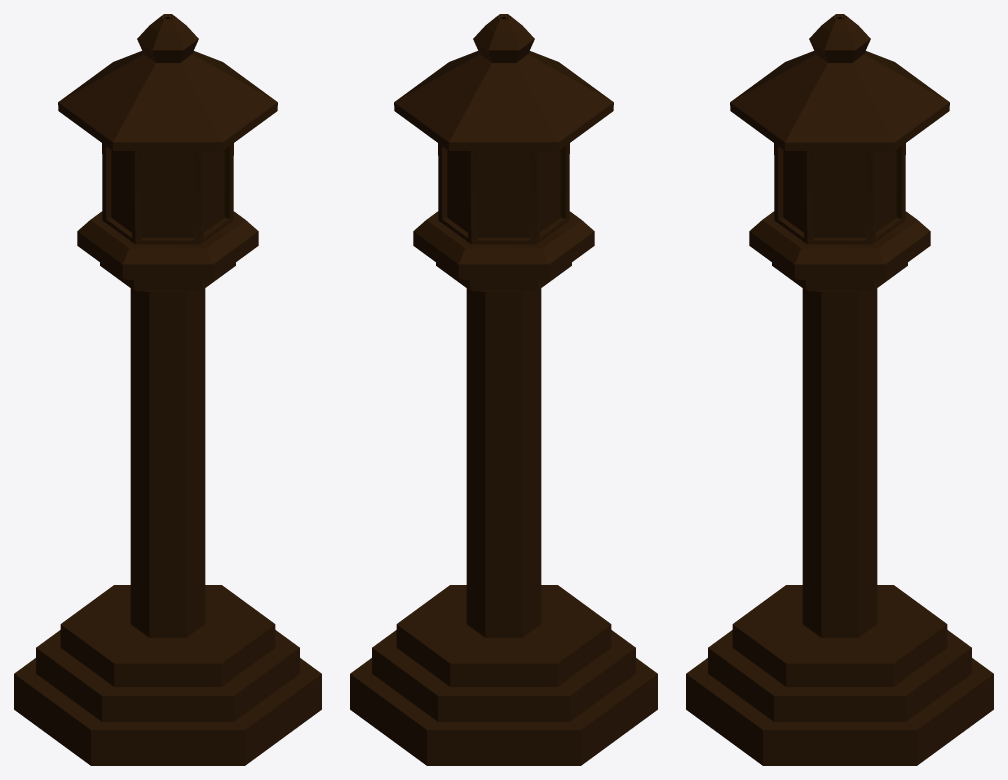
File: LampPost_(Outlined)_v002.fbx
3 renders of one model, left to right at view 1: azimuth 30°, elevation 25°; view 2: azimuth 150°, elevation 25°; view 3: azimuth 270°, elevation 25°, orthographic.
Visible parts, largest first — view 1: Cylinder.017; view 2: Cylinder.017; view 3: Cylinder.017.
Part boxes in pixels (x1,y1,x2,y2): Cylinder.017: (14, 14, 321, 765); Cylinder.017: (350, 14, 657, 765); Cylinder.017: (686, 14, 993, 765).
Size of the model in its own units: 231 by 663 by 267.
